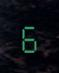six: (19, 20, 38, 53)
